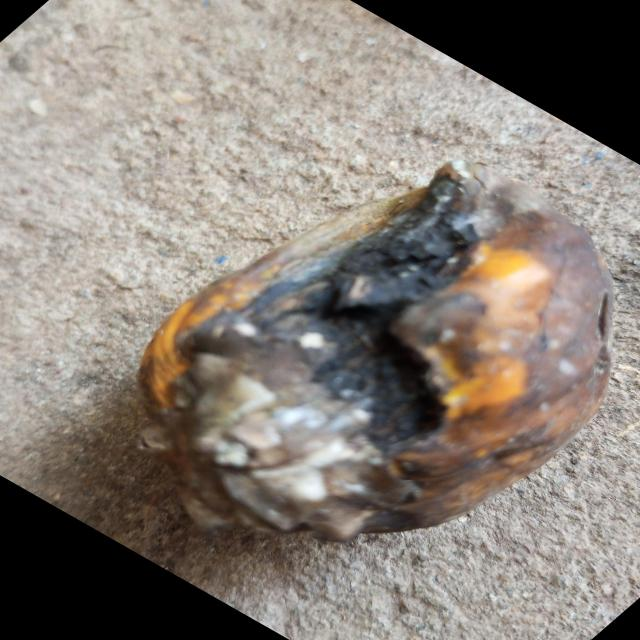damaged: (140, 160, 613, 541)
